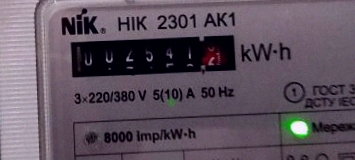0: (80, 45, 94, 67), (101, 43, 114, 64)
1: (182, 38, 194, 61)
2: (121, 41, 136, 63)
4: (162, 39, 174, 60)
5: (141, 40, 155, 64)
6: (204, 53, 216, 66)
screen: (56, 24, 247, 85)
